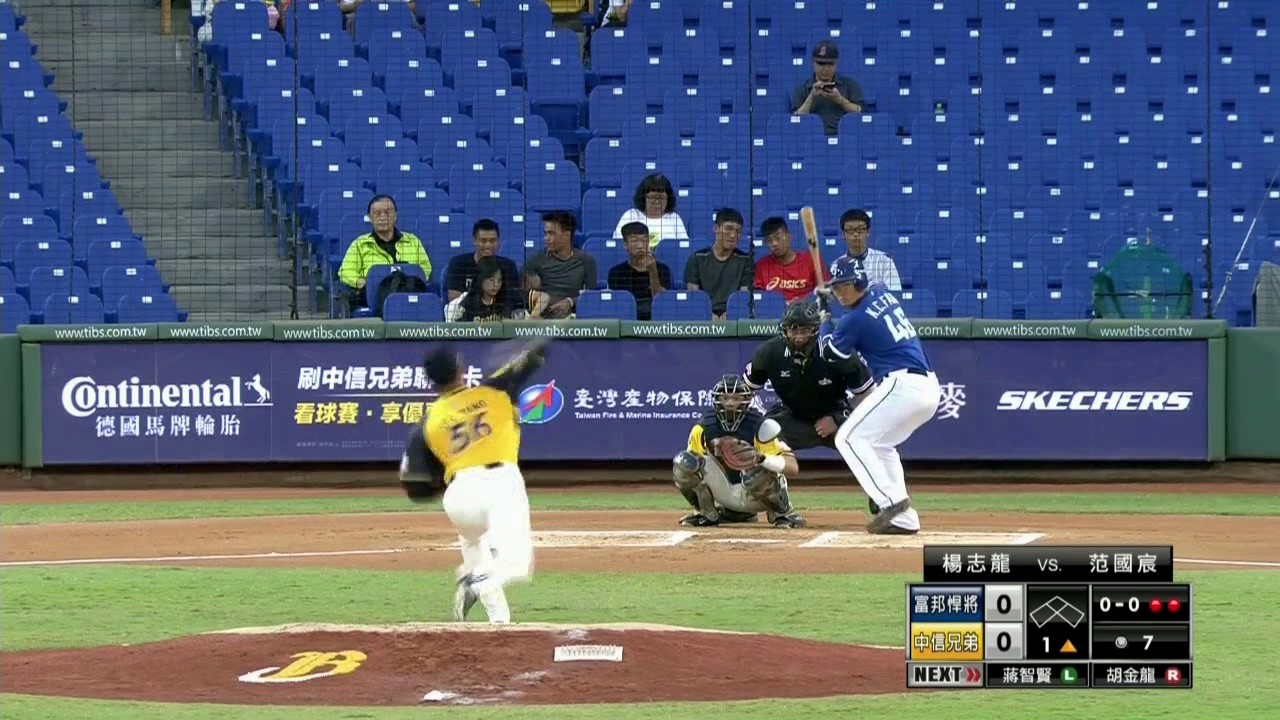base: (1029, 592, 1087, 628)
bat: (797, 201, 829, 293)
out: (1146, 595, 1181, 613)
score1: (985, 584, 1021, 620)
score2: (985, 623, 1022, 657)
session: (1036, 632, 1081, 654)
strikeball: (1098, 593, 1140, 613)
total: (1106, 631, 1162, 653)
